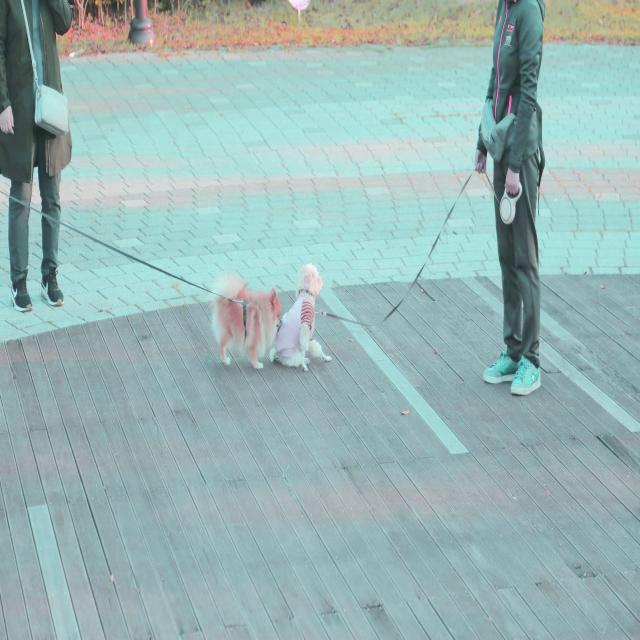Leashed_Dog: (11, 155, 281, 370), (270, 169, 521, 373)
